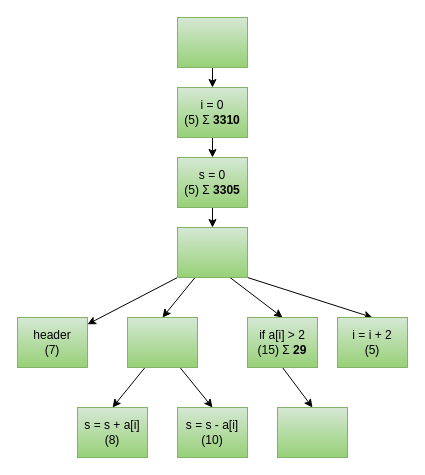
This 425x475 diagram has some shape labels left out. Each missing label, with the centre of its shape:
function Σ 3310: [212,42]
if a[i] > 0 (15) Σ 25: [162,342]
s = s * 2 (14): [312,432]
while loop: 50 Σ 66 * 50: [212,252]
